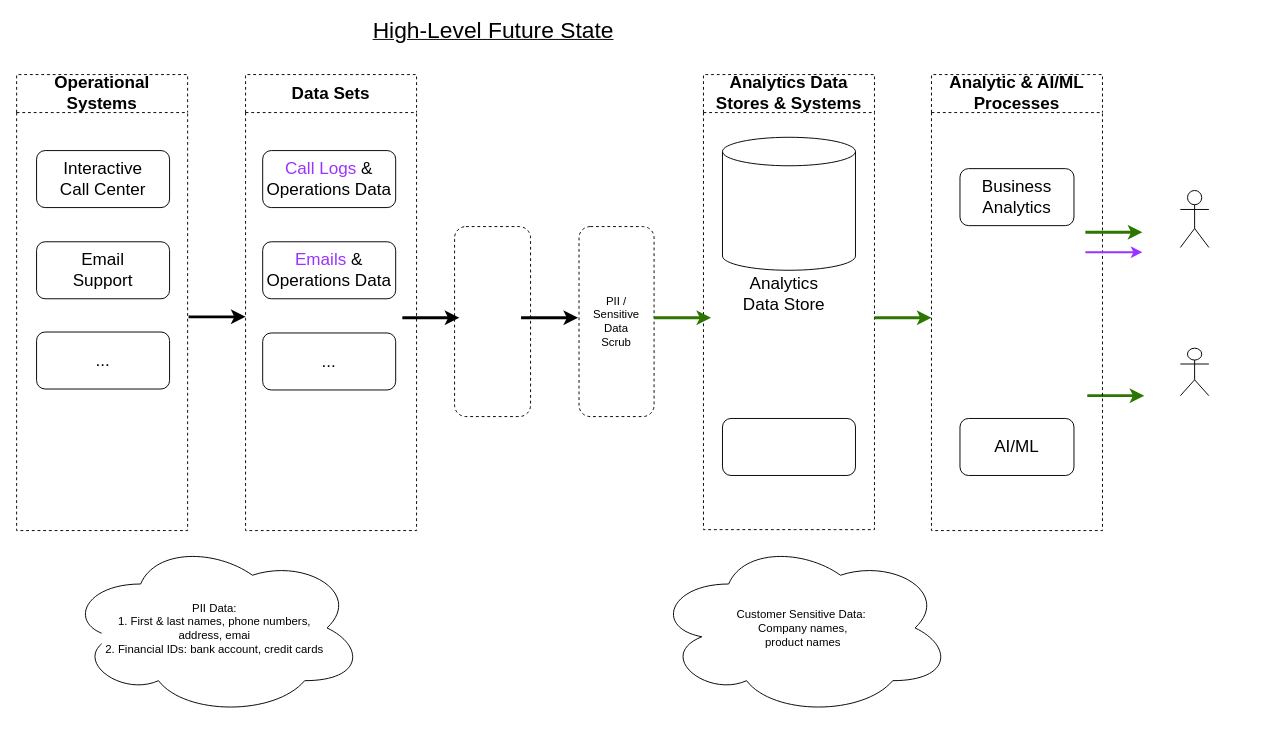
The diagram is 1270 pixels wide and 732 high, and some of its shapes have lost their labels. Here are the shapes that lost their labels. From the top down, the centre of each, then its label:
point (788, 203): Scrubbed & Ops Data
point (1194, 218): In-House BA / DS
point (492, 321): Extract Transform & Load (ETL)
point (1194, 371): 3rd Party BA / DS
point (788, 446): AI/ML Tools & Infra.
